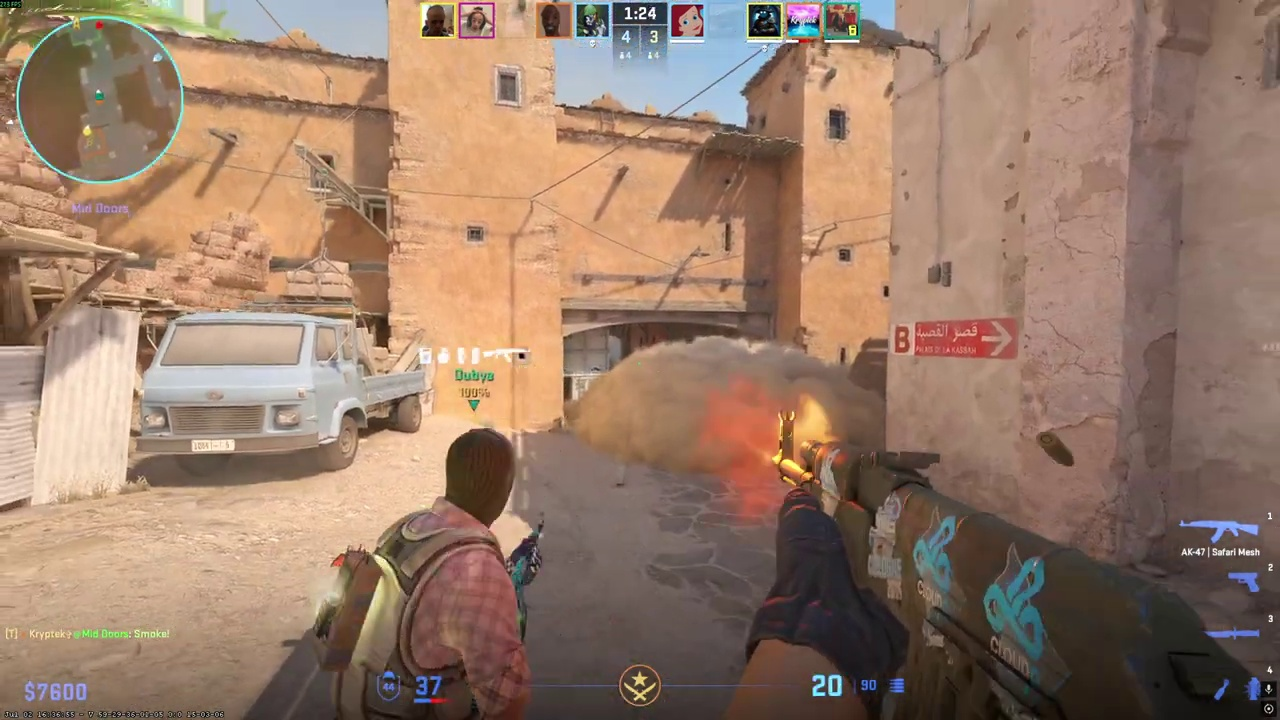Terrorist: (321, 428, 535, 720)
